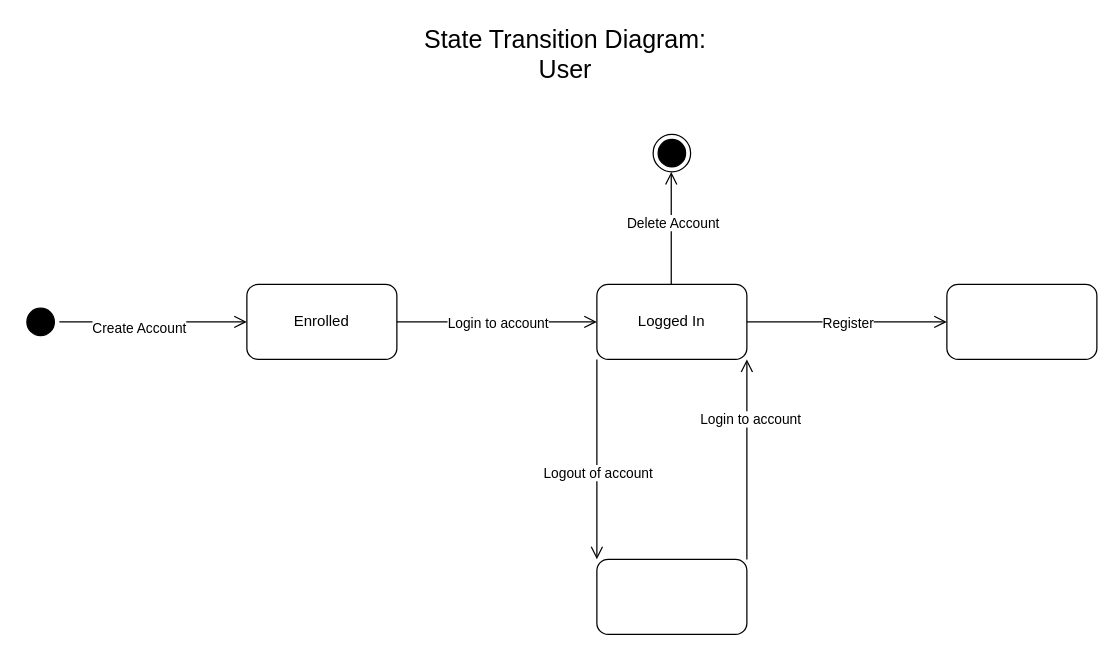
Some shapes in this 1119 by 656 pixel diagram are drawn without their labels. The centre of each missing label's shape, as x and y in pixels:
"Logged out" goes at (671,596).
"Registered" goes at (1021,321).
